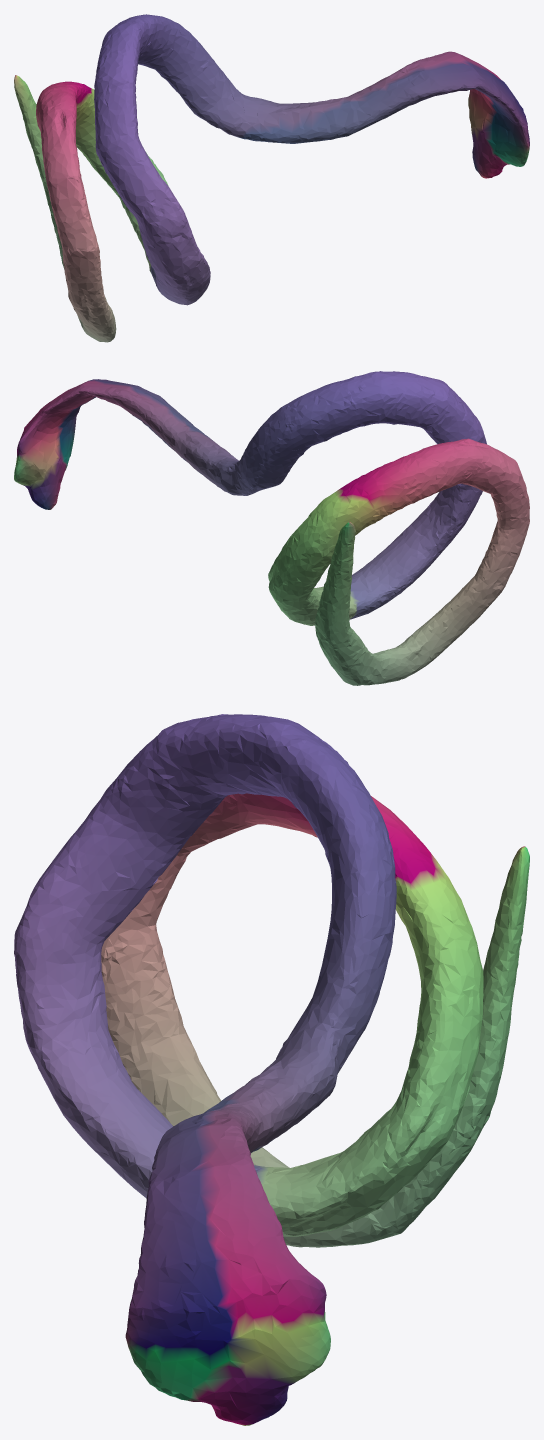
Rendered from snake-16.off.obj.
3 views of the same model, one above another, from view 1: azimuth 30°, elevation 25°; view 2: azimuth 150°, elevation 25°; view 3: azimuth 270°, elevation 25° (orthographic). The views are drawn at different scales.
Bounding box in the file's own units: 1.39 × 0.838 × 0.724.
